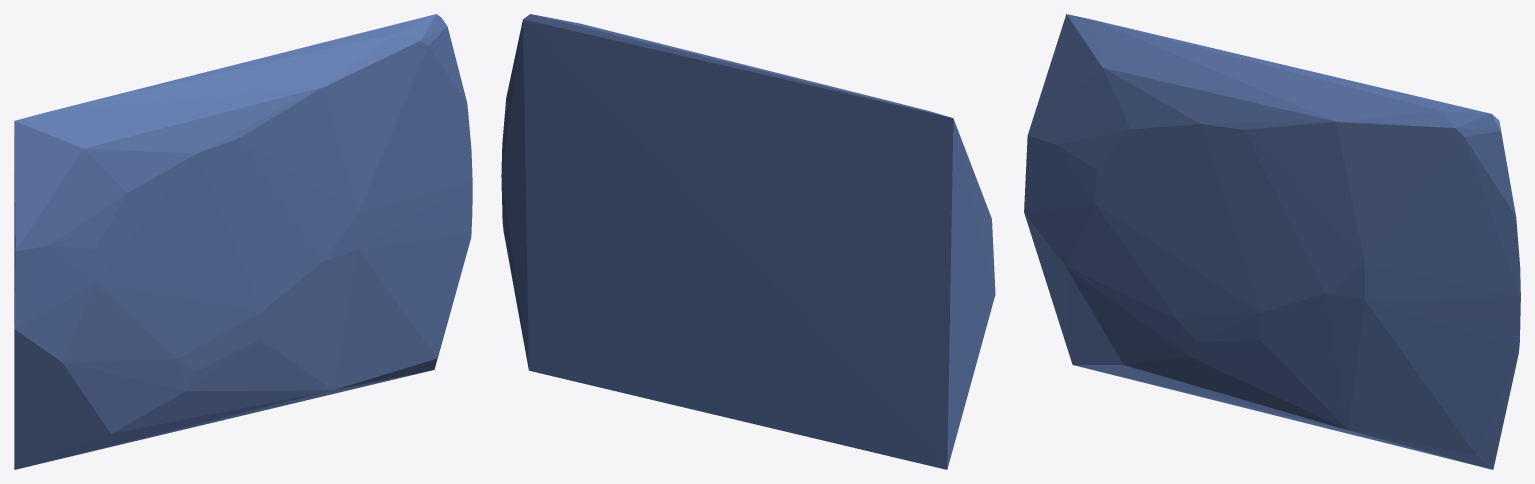
The model's file is bodyPart_interior_roof_panel_b01.glb.
The picture shows the model from 3 angles, left to right: view 1: azimuth 30°, elevation 25°; view 2: azimuth 150°, elevation 25°; view 3: azimuth 330°, elevation 25°; orthographic projection.
Visible parts, largest first — view 1: geometry_0; view 2: geometry_0; view 3: geometry_0.
Part boxes in pixels (x1=…): geometry_0: x1=14, y1=14, x2=472, y2=469; geometry_0: x1=501, y1=14, x2=995, y2=469; geometry_0: x1=1024, y1=14, x2=1520, y2=469.
Size of the model in its own units: 0.4797 by 0.3433 by 0.052.
